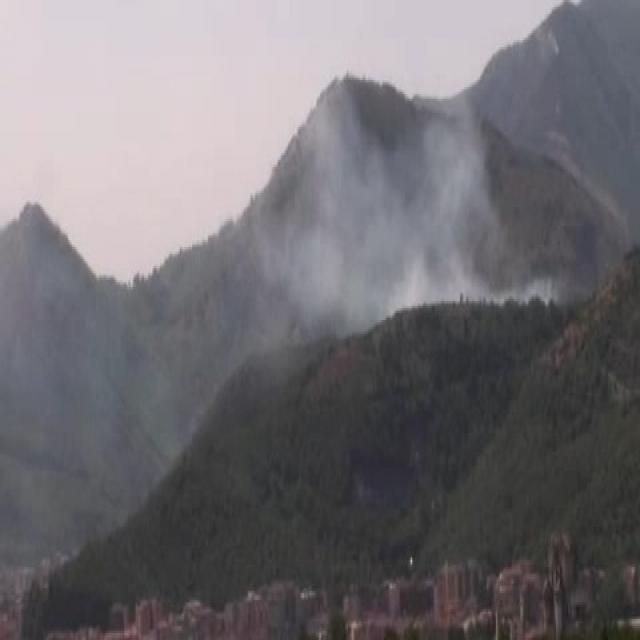smoke: (285, 92, 481, 314)
